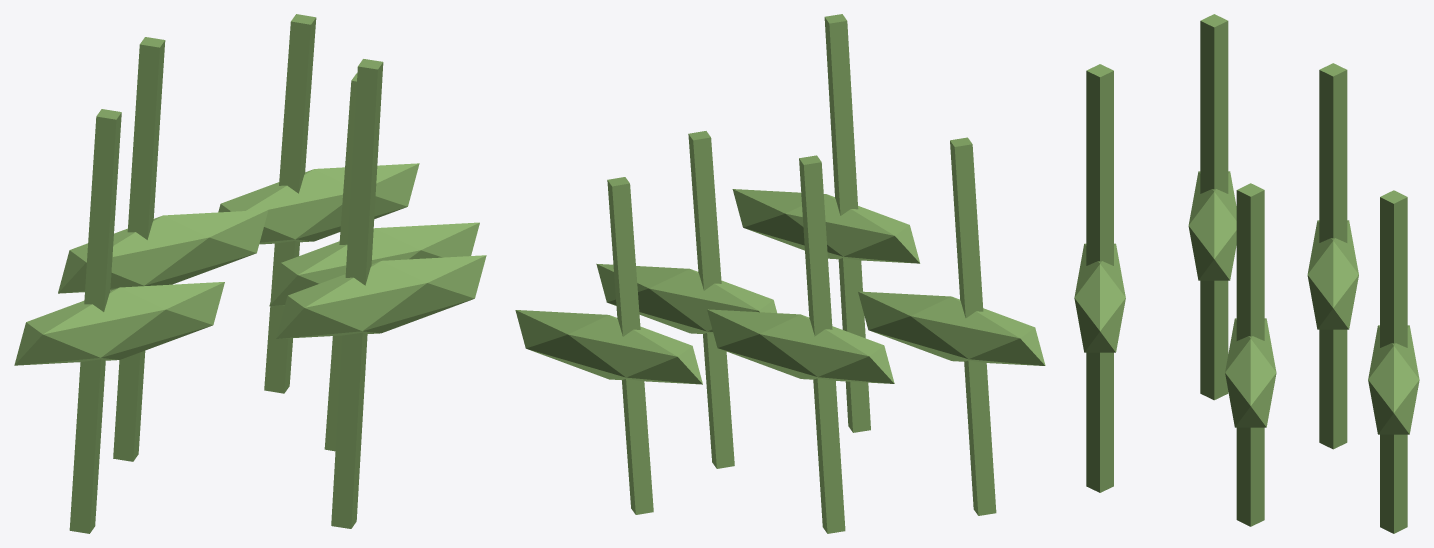
File: plant_wild_flax_growing.glb
The picture shows the model from 3 angles, left to right: view 1: azimuth 30°, elevation 25°; view 2: azimuth 150°, elevation 25°; view 3: azimuth 270°, elevation 25°; orthographic projection. The views are drawn at different scales.
Parts seen in each view (by area): view 1: plant_wild_flax_growing; view 2: plant_wild_flax_growing; view 3: plant_wild_flax_growing.
Part boxes in pixels (x1,y1,x2,y2): plant_wild_flax_growing: [14, 14, 486, 533]; plant_wild_flax_growing: [515, 14, 1045, 533]; plant_wild_flax_growing: [1074, 14, 1419, 533].
Size of the model in its own units: 0.4692 by 0.4077 by 0.2967.
